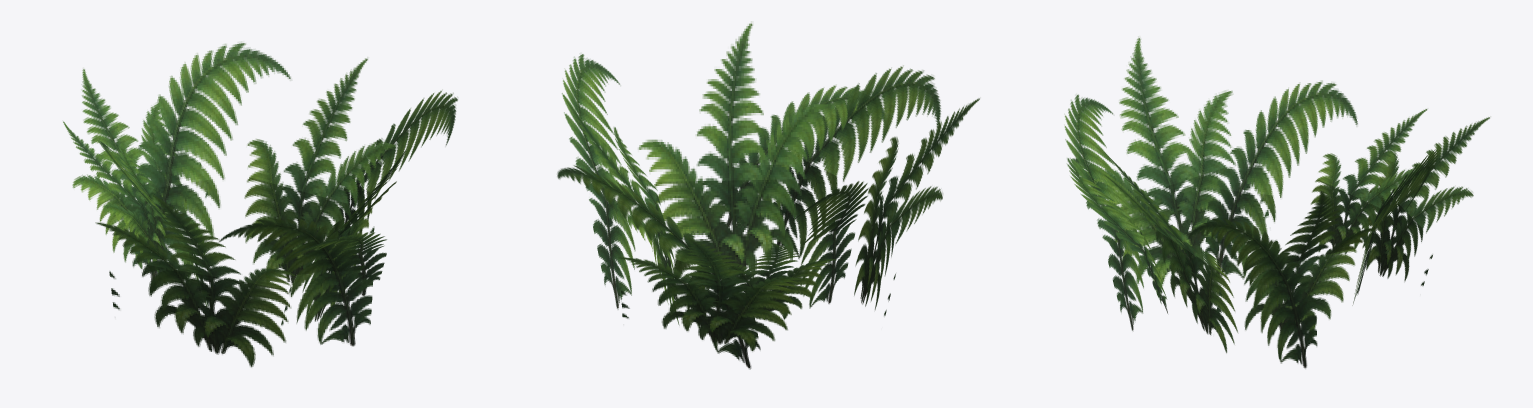
Rendered from fern.glb.
3 renders of one model, left to right at view 1: azimuth 30°, elevation 25°; view 2: azimuth 150°, elevation 25°; view 3: azimuth 270°, elevation 25°, orthographic. The views are drawn at different scales.
Parts seen in each view (by area): view 1: fern; view 2: fern; view 3: fern.
Boxes of the visible parts, left/top/right/bottom form: fern: left=63, top=42, right=457, bottom=367; fern: left=557, top=23, right=979, bottom=369; fern: left=1064, top=38, right=1489, bottom=368.
Bounding box in the file's own units: 1.66 × 0.8904 × 1.77.
1 material, 1 textured.
